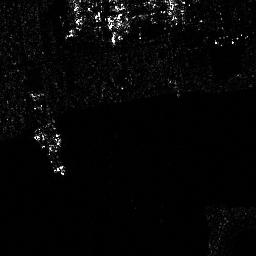ship: (35, 130, 68, 177)
